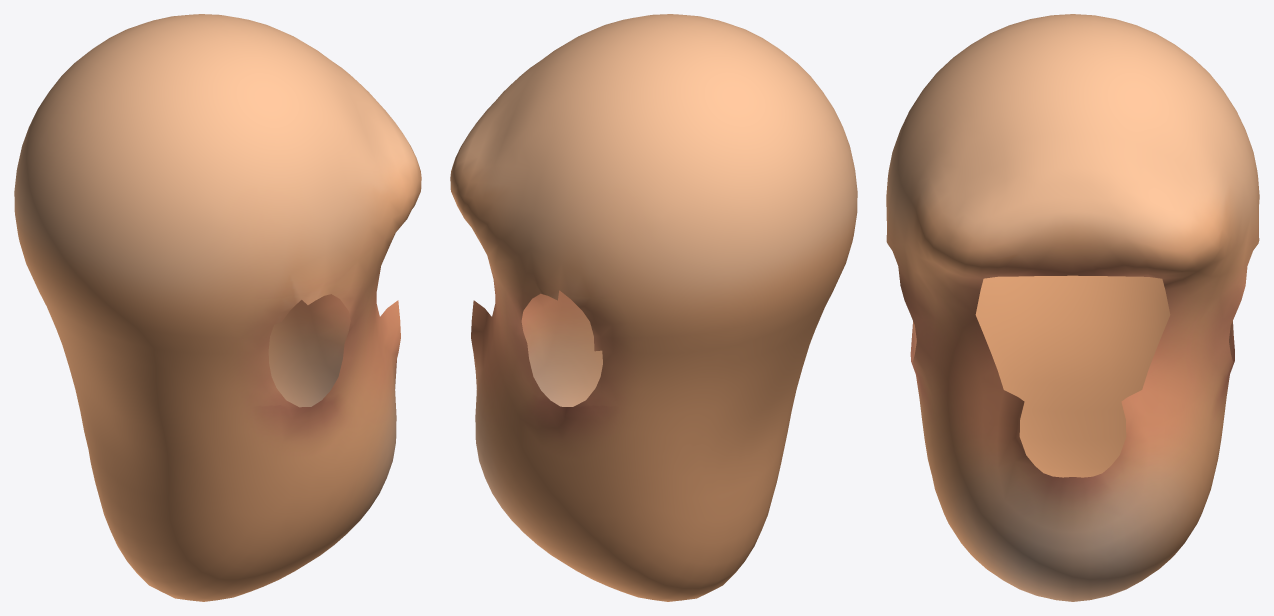
Rendered from Hair.fbx.
3 views of the same model, side by side, from view 1: azimuth 30°, elevation 25°; view 2: azimuth 150°, elevation 25°; view 3: azimuth 270°, elevation 25° (orthographic).
Parts seen in each view (by area): view 1: Hair; view 2: Hair; view 3: Hair.
Part boxes in pixels (left/top/right/bottom): Hair: left=14, top=14, right=421, bottom=601; Hair: left=450, top=14, right=857, bottom=601; Hair: left=886, top=14, right=1259, bottom=601.
Bounding box in the file's own units: 68.63 × 104 × 64.52.
